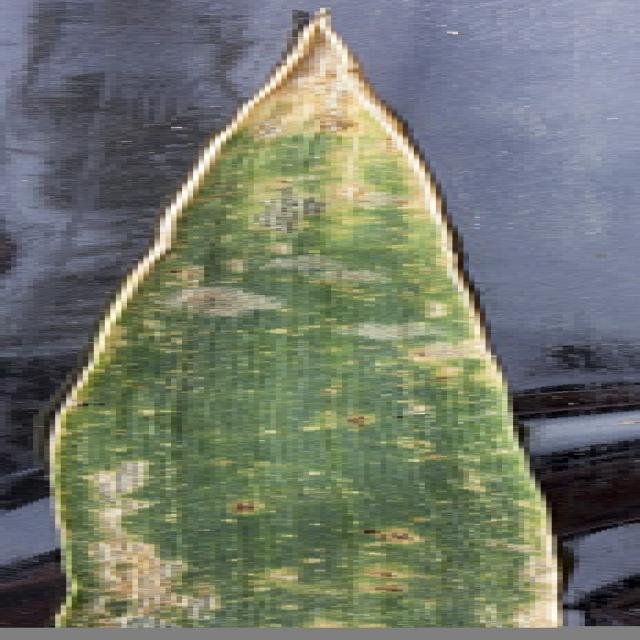wheat-powdery-mildew: (50, 12, 563, 630)
